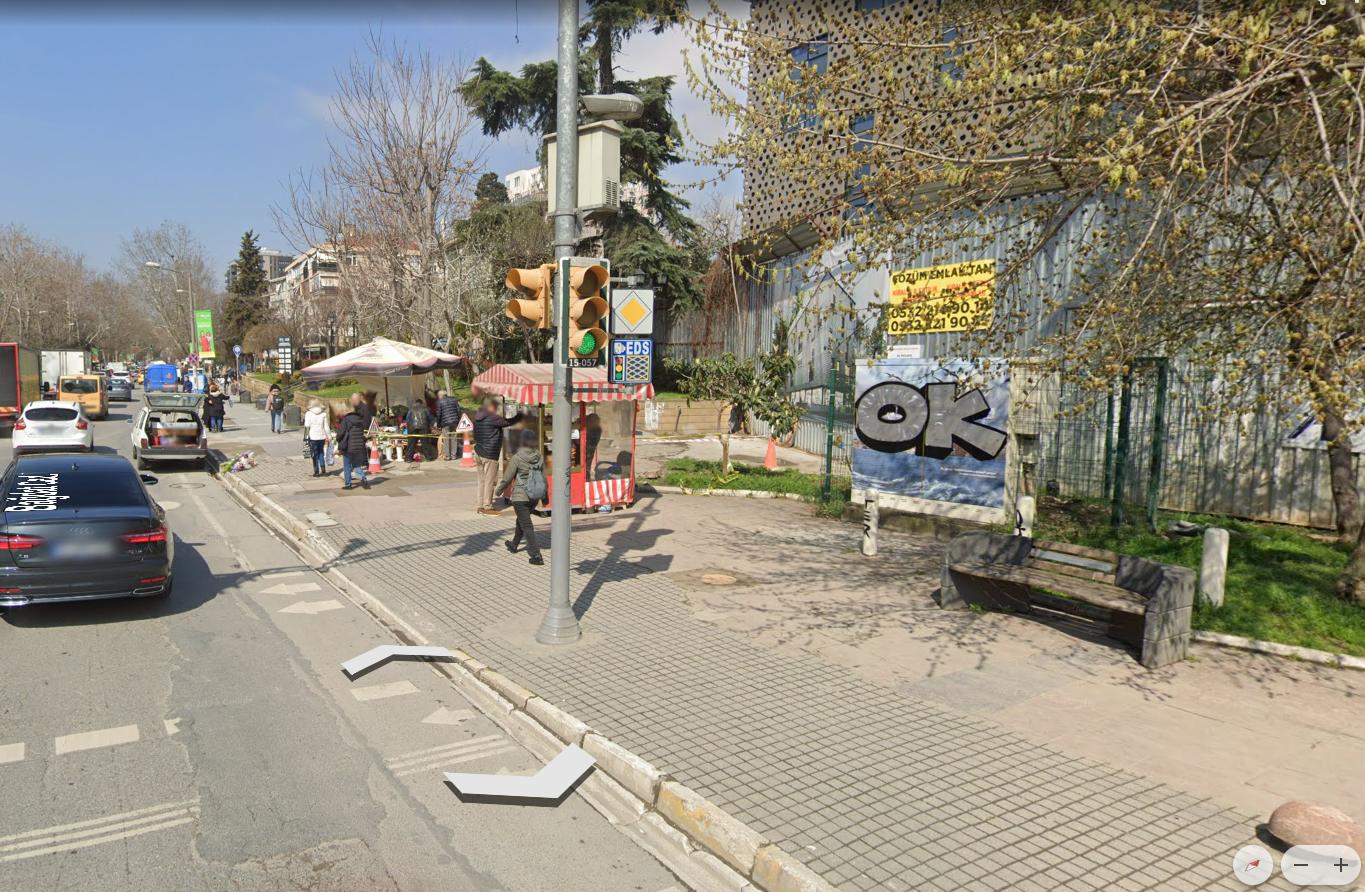greenlight: (566, 258, 611, 369)
